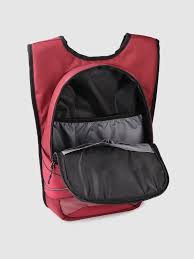backpack: (26, 32, 169, 221)
